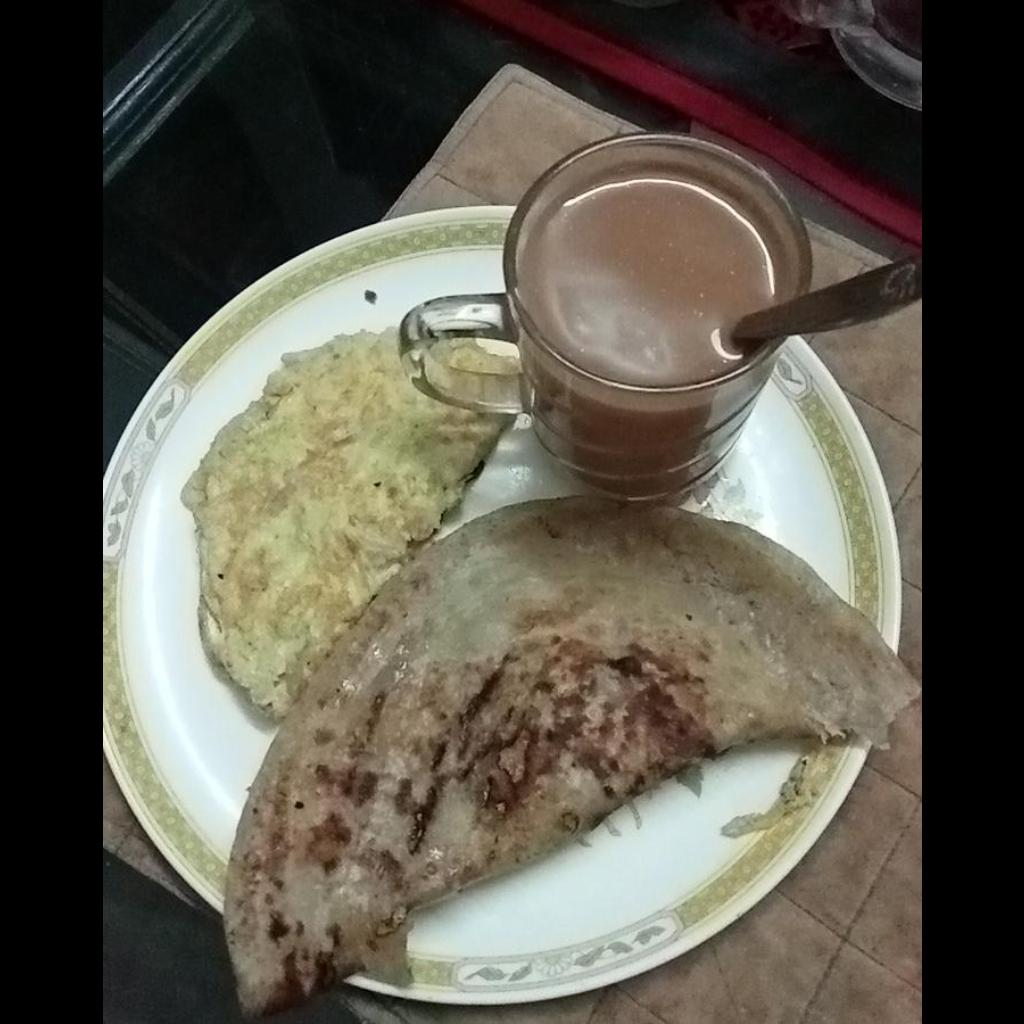cha: (524, 178, 775, 385)
egg-poached: (179, 325, 515, 725)
ruti: (225, 499, 920, 1018)
